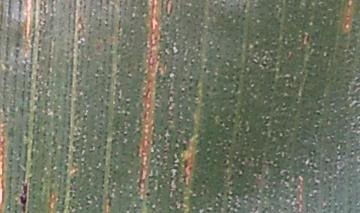tarspot: (18, 179, 30, 213), (143, 189, 154, 200)
